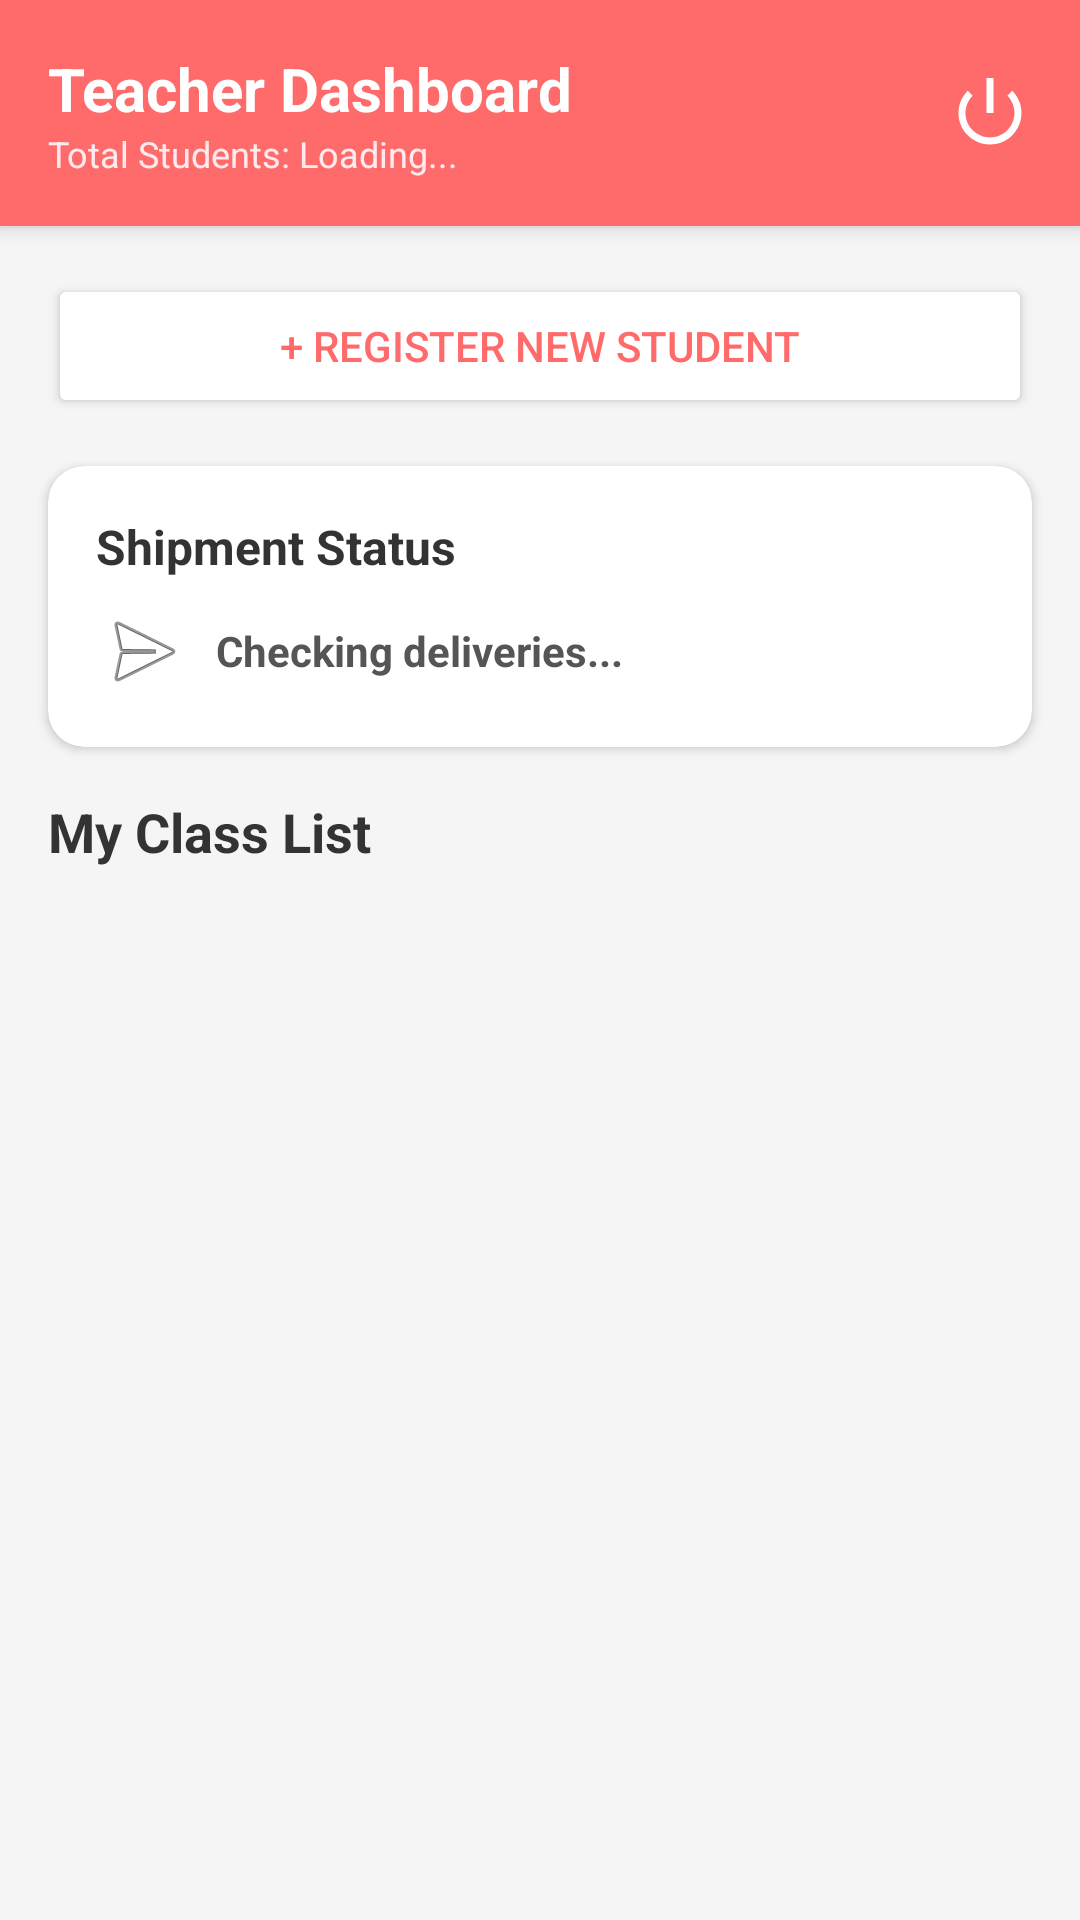

Named icons in this screenshot (1080px x 1920px) and their centers, point (x, y):
lock power off: point (990, 111)
